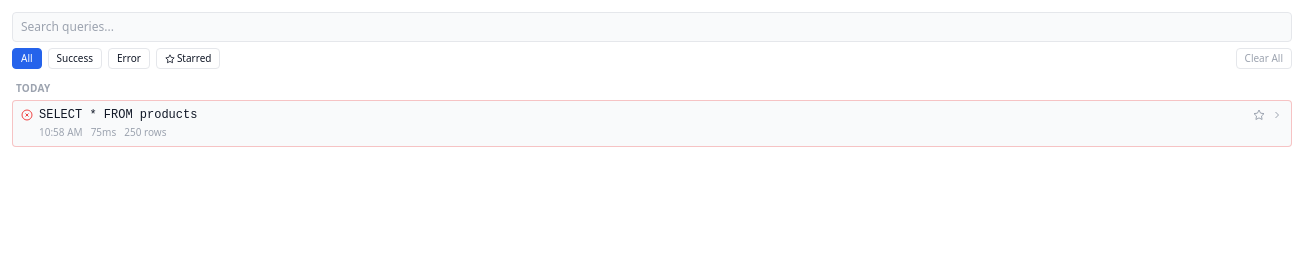
Scenario: QHP-11: Error message in expanded view › shows error message when entry has error_message and is expanded
The image size is (1304, 255).
Click the button with test id "query-history-entry-toggle": point(118, 115) [13,101,1291,146]
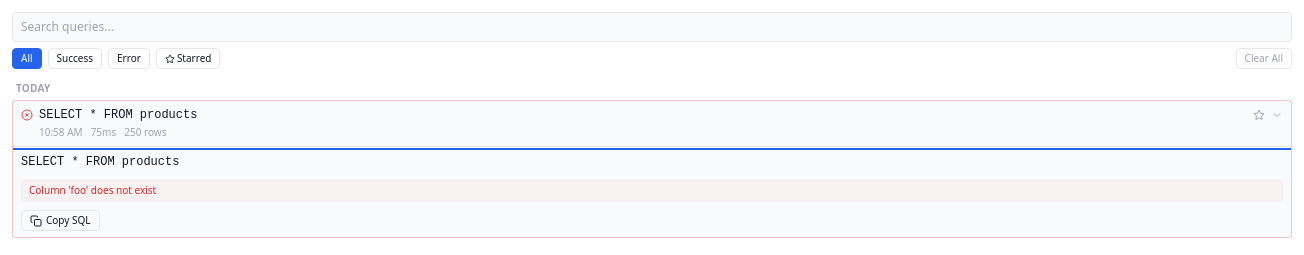
Expected: the text with test id "query-history-entry-error" reads "Column 'foo' does not exist", [29,183,156,197]
